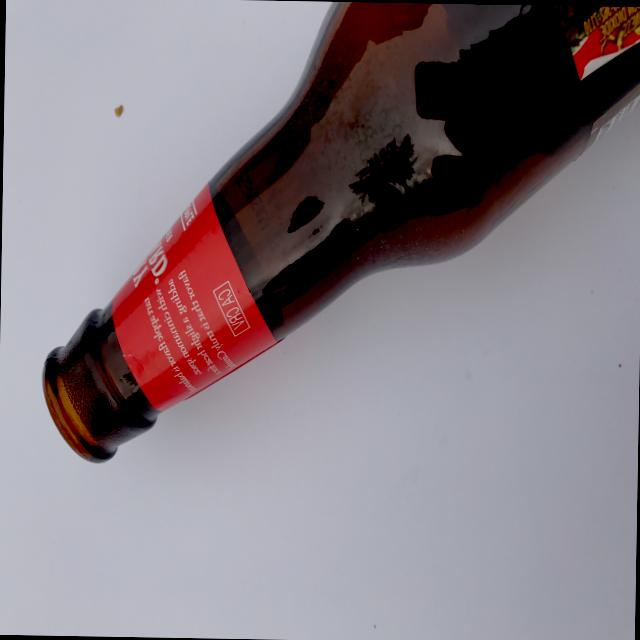Glass: (26, 0, 640, 487)
